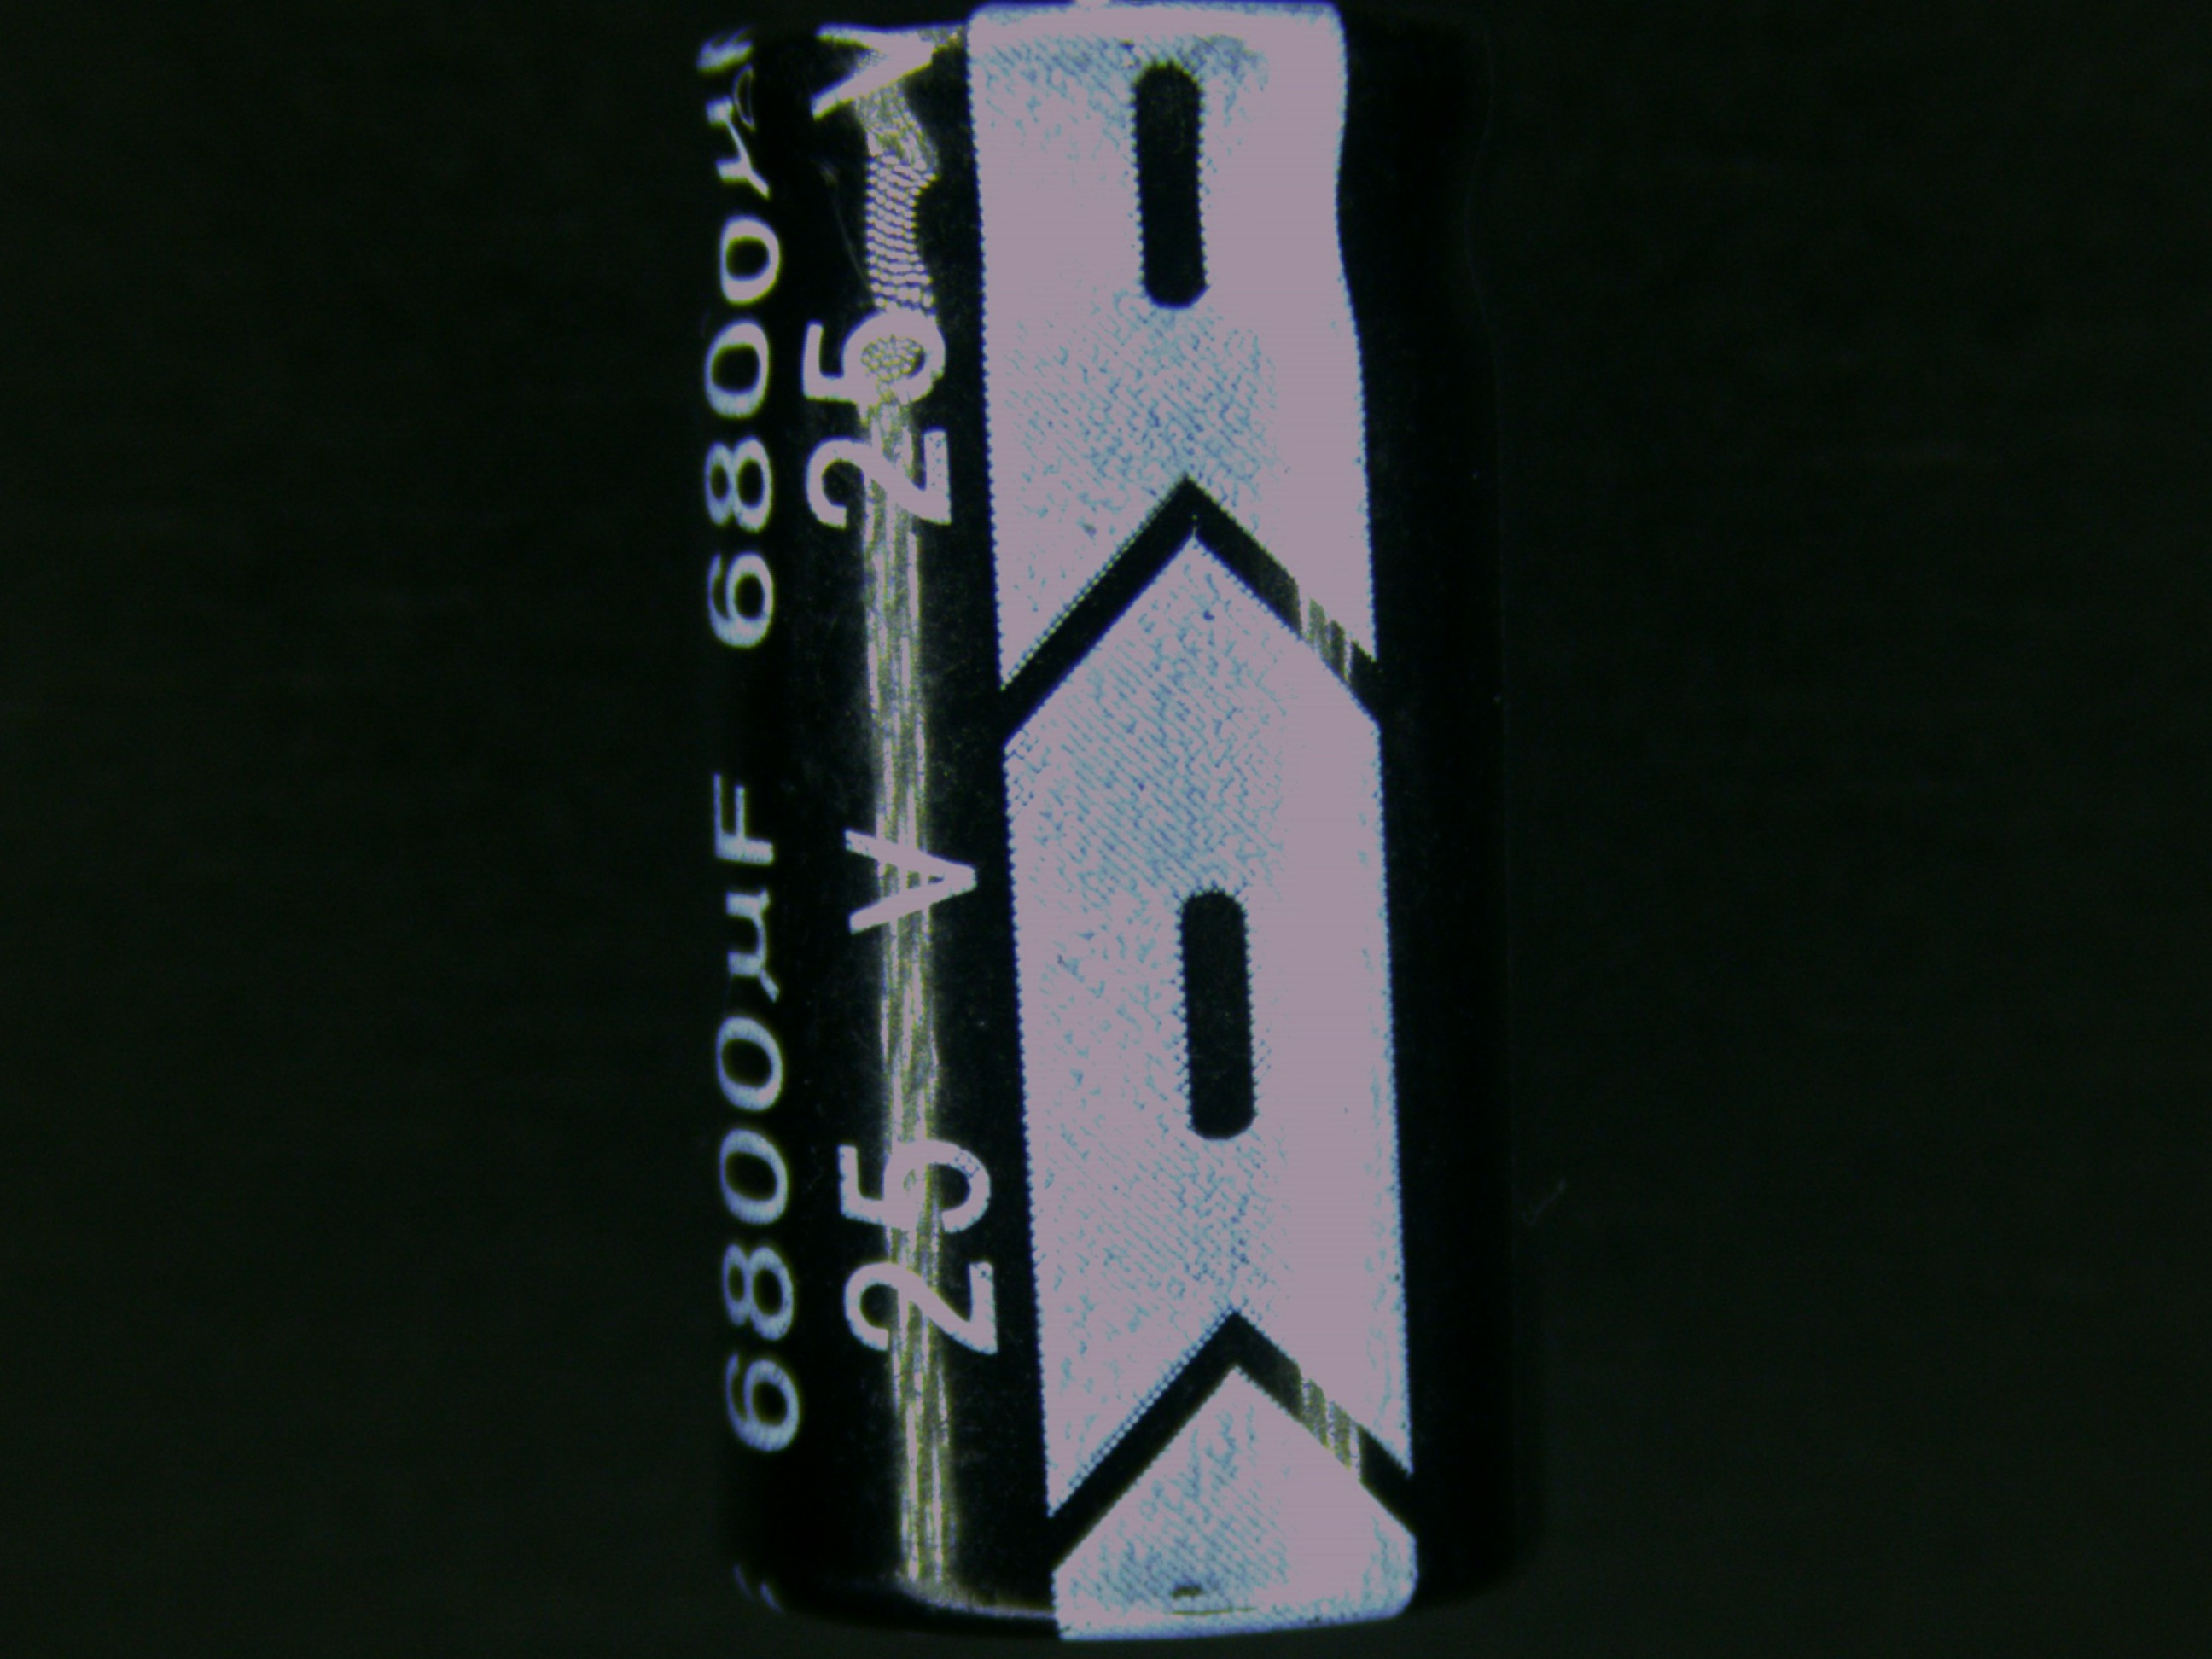c3: (679, 0, 1531, 1642)
